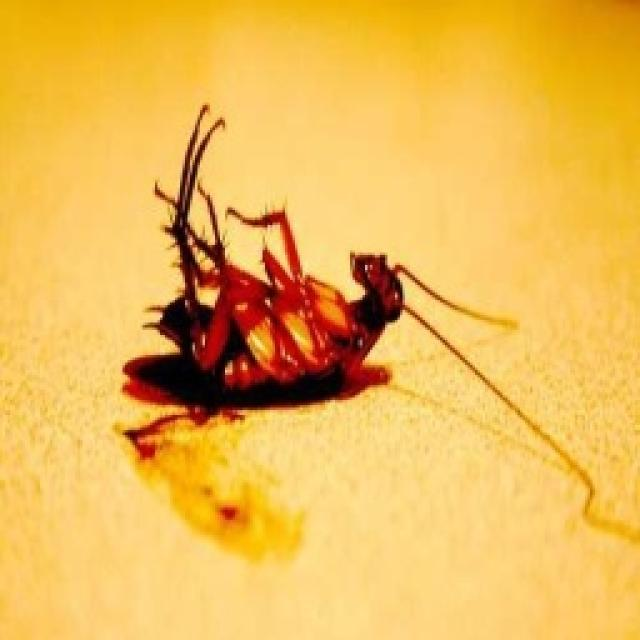cockroach: (86, 196, 458, 469)
